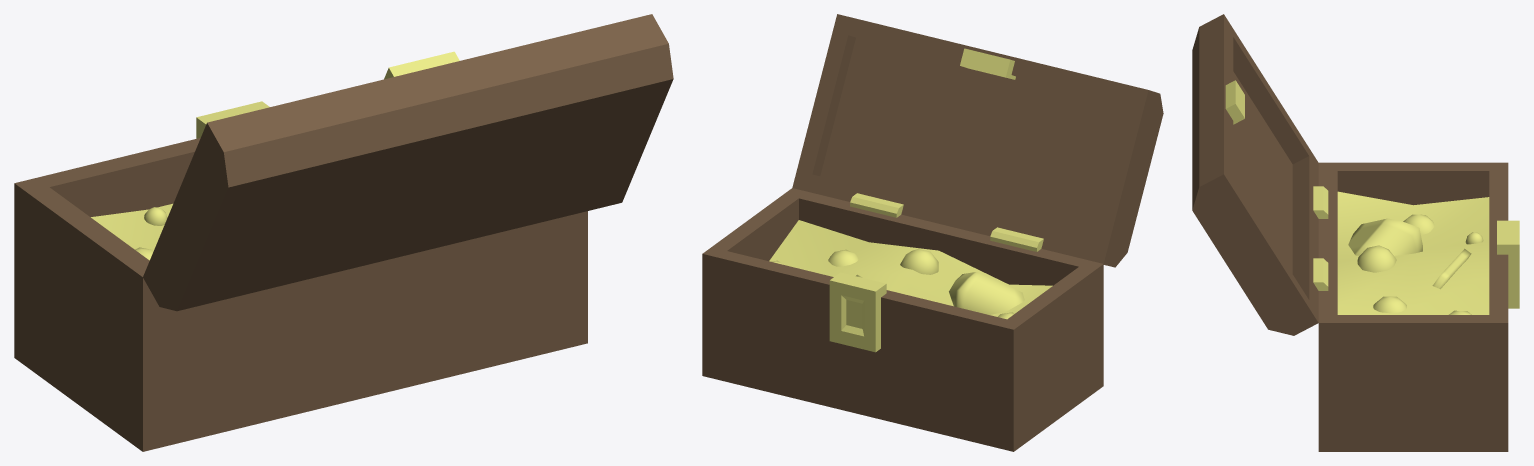
File: TreasureVar1.fbx
3 renders of one model, left to right at view 1: azimuth 30°, elevation 25°; view 2: azimuth 150°, elevation 25°; view 3: azimuth 270°, elevation 25°, orthographic. The views are drawn at different scales.
Visible parts, largest first — view 1: TreasureVar1; view 2: TreasureVar1; view 3: TreasureVar1.
Boxes of the visible parts, x1,y1,x2,y2 form: TreasureVar1: (14, 14, 673, 451); TreasureVar1: (702, 14, 1163, 451); TreasureVar1: (1192, 14, 1519, 451).
Size of the model in its own units: 2 by 1.63 by 1.73.
